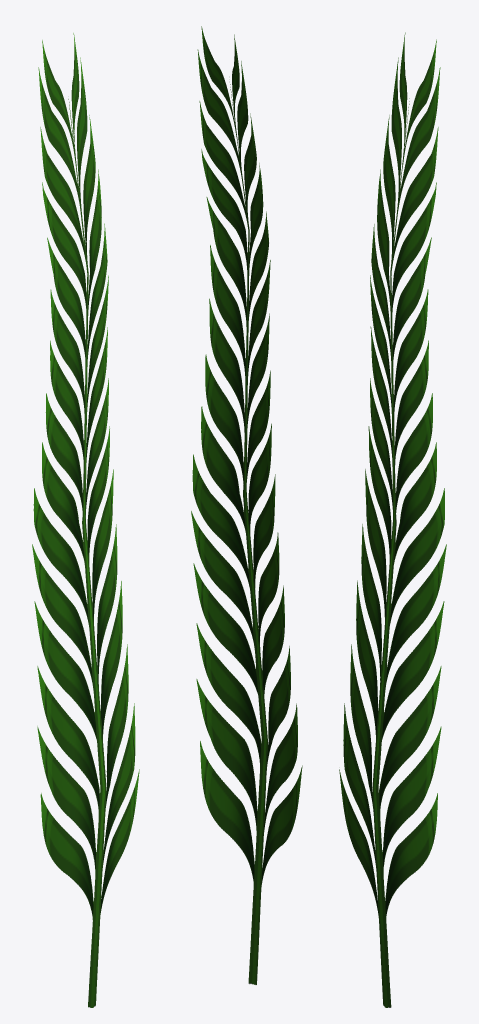
Rendered from SeaWeed_02.FBX.
3 renders of one model, left to right at view 1: azimuth 30°, elevation 25°; view 2: azimuth 150°, elevation 25°; view 3: azimuth 330°, elevation 25°, orthographic. The views are drawn at different scales.
Parts seen in each view (by area): view 1: SeaWeed_02; view 2: SeaWeed_02; view 3: SeaWeed_02.
Boxes of the visible parts, box(x1,y1,x2,y2) form: SeaWeed_02: box(32, 33, 139, 1007); SeaWeed_02: box(191, 26, 302, 984); SeaWeed_02: box(339, 32, 446, 1007).
Size of the model in its own units: 13.35 by 112 by 10.74.
